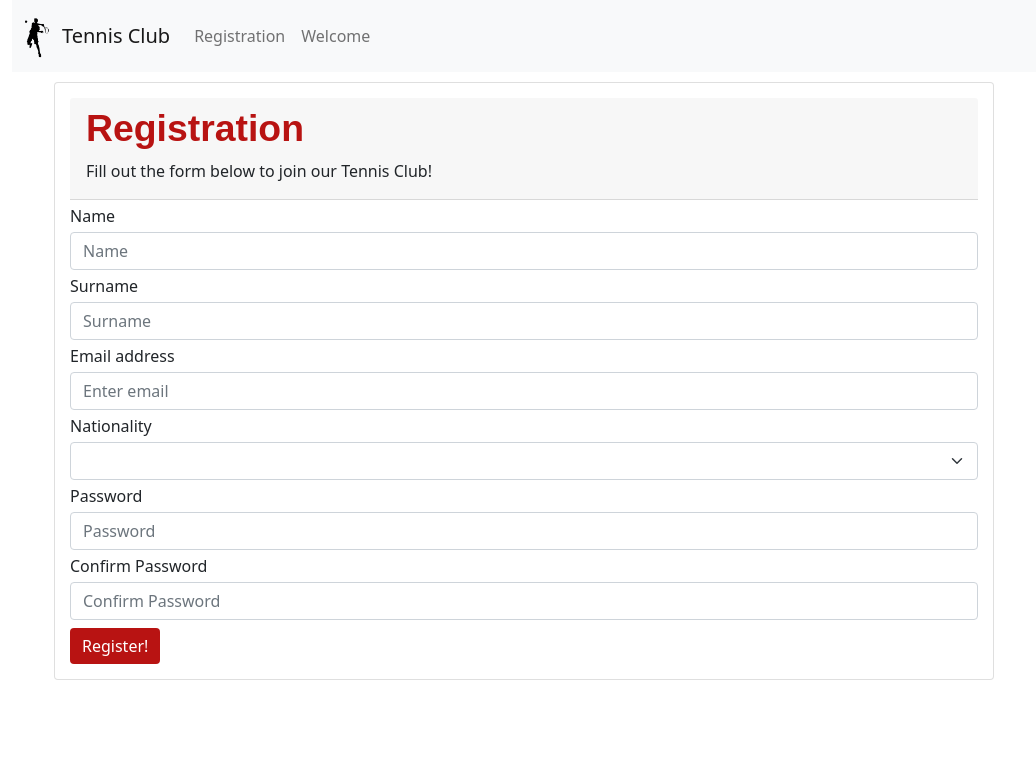
NavBar › welcome link should redirect to welcome page
Click the link "Welcome". click: coordinates (336, 36)
box: [301, 25, 370, 47]
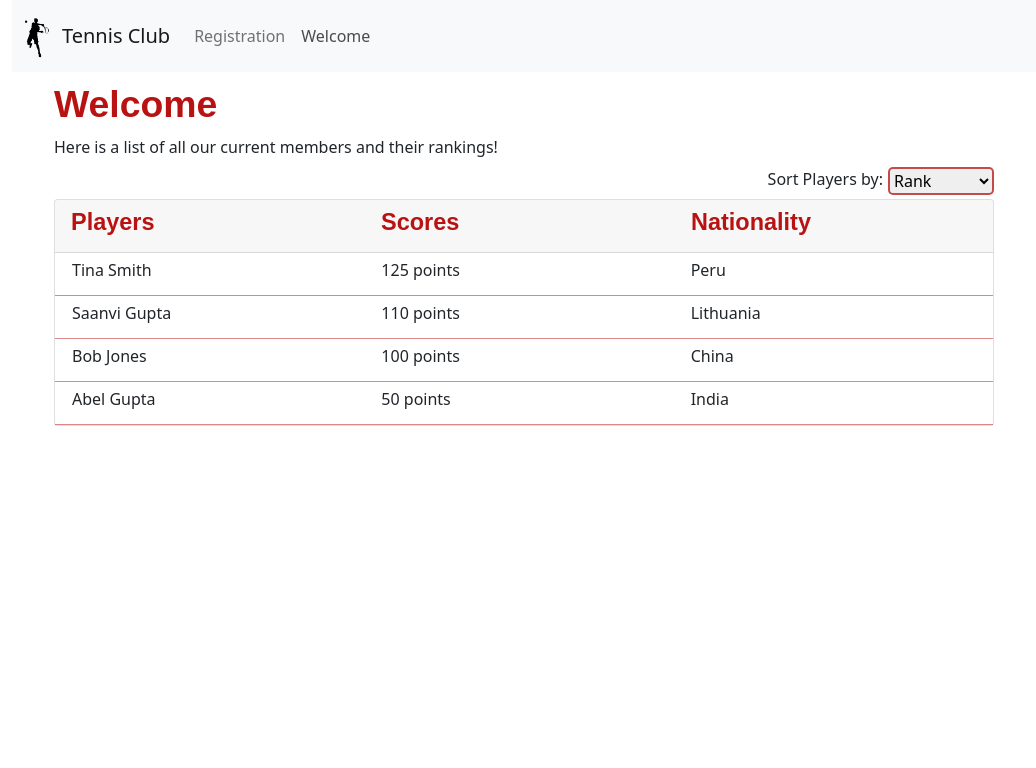
Expected: the text "Tina Smith" is shown, [72, 259, 152, 281]
